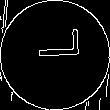L_W: (29, 39, 81, 71)
